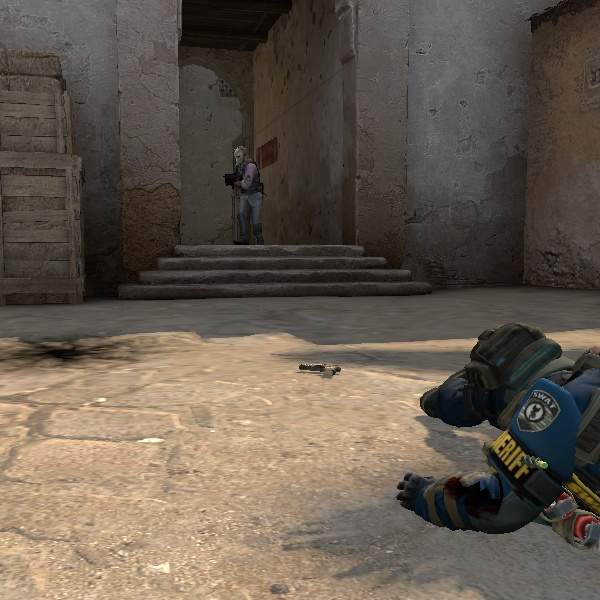t_body: (224, 146, 267, 247)
t_head: (233, 147, 248, 167)
